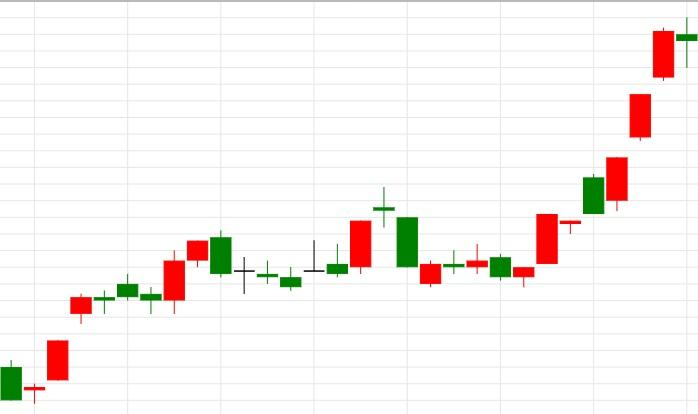bearish_engulfing_fall: (0, 231, 232, 404)
evening_star_fall: (279, 187, 419, 291)
